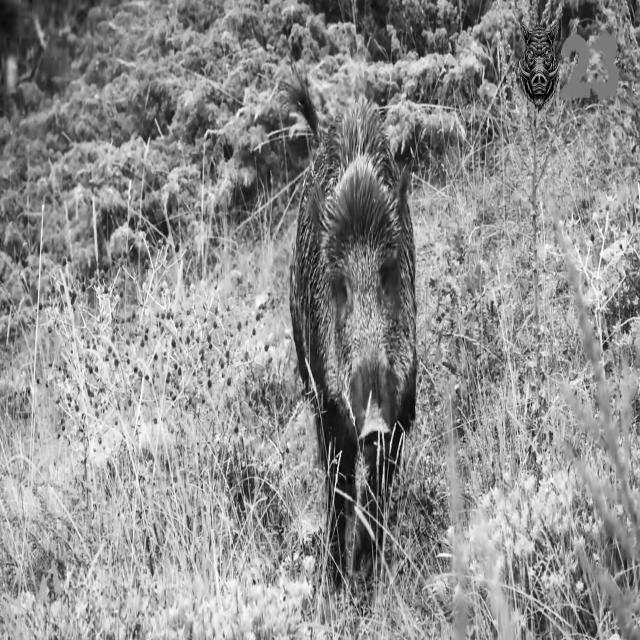boar: (286, 72, 416, 574)
